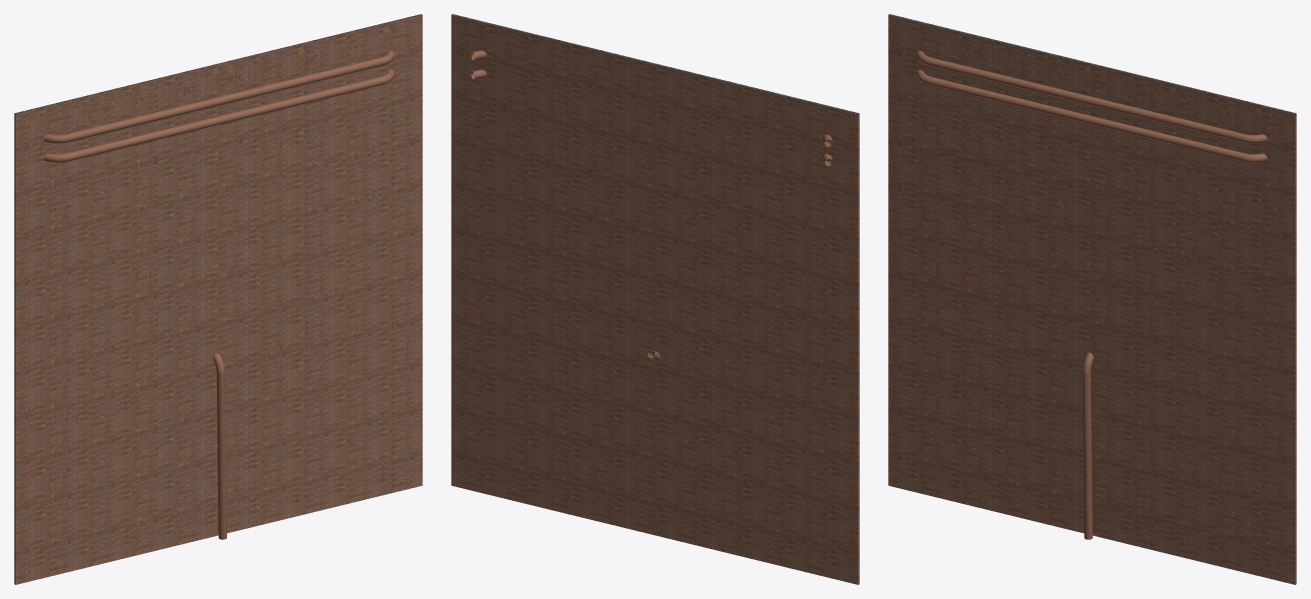
File: Tutorial_Model_Structure_BS2Wall_2.fbx
3 views of the same model, side by side, from view 1: azimuth 30°, elevation 25°; view 2: azimuth 150°, elevation 25°; view 3: azimuth 330°, elevation 25° (orthographic).
Visible parts, largest first — view 1: Wall_5, Wall_5_Pipe_1, Wall_5_Pipe_2, Wall_5_Pipe_3; view 2: Wall_5; view 3: Wall_5, Wall_5_Pipe_1, Wall_5_Pipe_2, Wall_5_Pipe_3.
Boxes of the visible parts, box(x1,y1,x2,y2) form: Wall_5: box(14, 14, 422, 584); Wall_5_Pipe_1: box(43, 50, 394, 143); Wall_5_Pipe_2: box(43, 70, 394, 162); Wall_5_Pipe_3: box(213, 353, 226, 539); Wall_5: box(451, 14, 859, 584); Wall_5: box(888, 14, 1296, 584); Wall_5_Pipe_1: box(916, 50, 1267, 143); Wall_5_Pipe_2: box(916, 70, 1267, 162); Wall_5_Pipe_3: box(1082, 352, 1093, 539).
Bounding box in the file's own units: 748 × 827 × 47.6.
2 materials, 2 textured.
